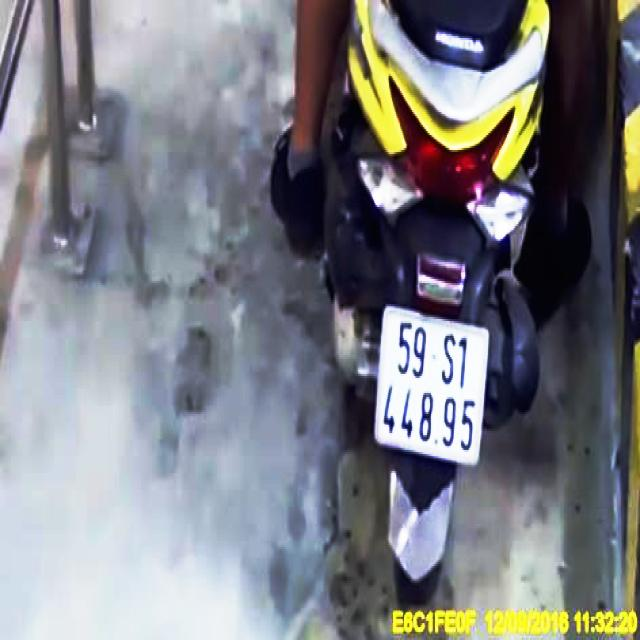license_plate: (380, 312, 489, 464)
